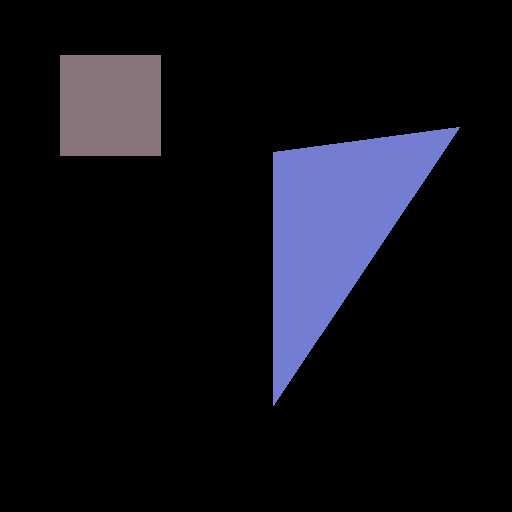square: (60, 55, 160, 155)
triangle: (273, 127, 459, 405)
